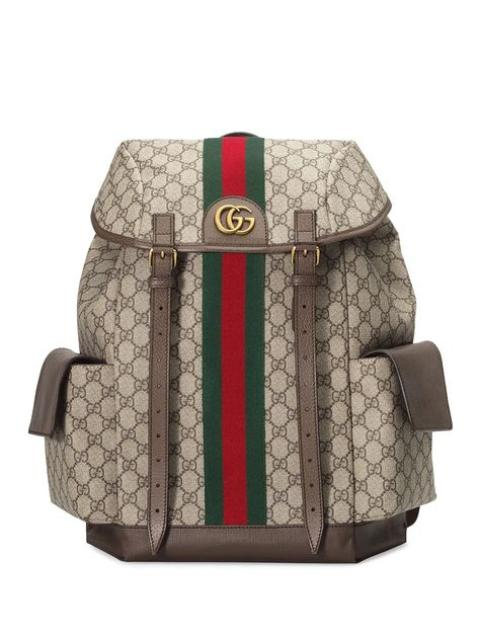Gucci: (214, 202, 258, 240)
